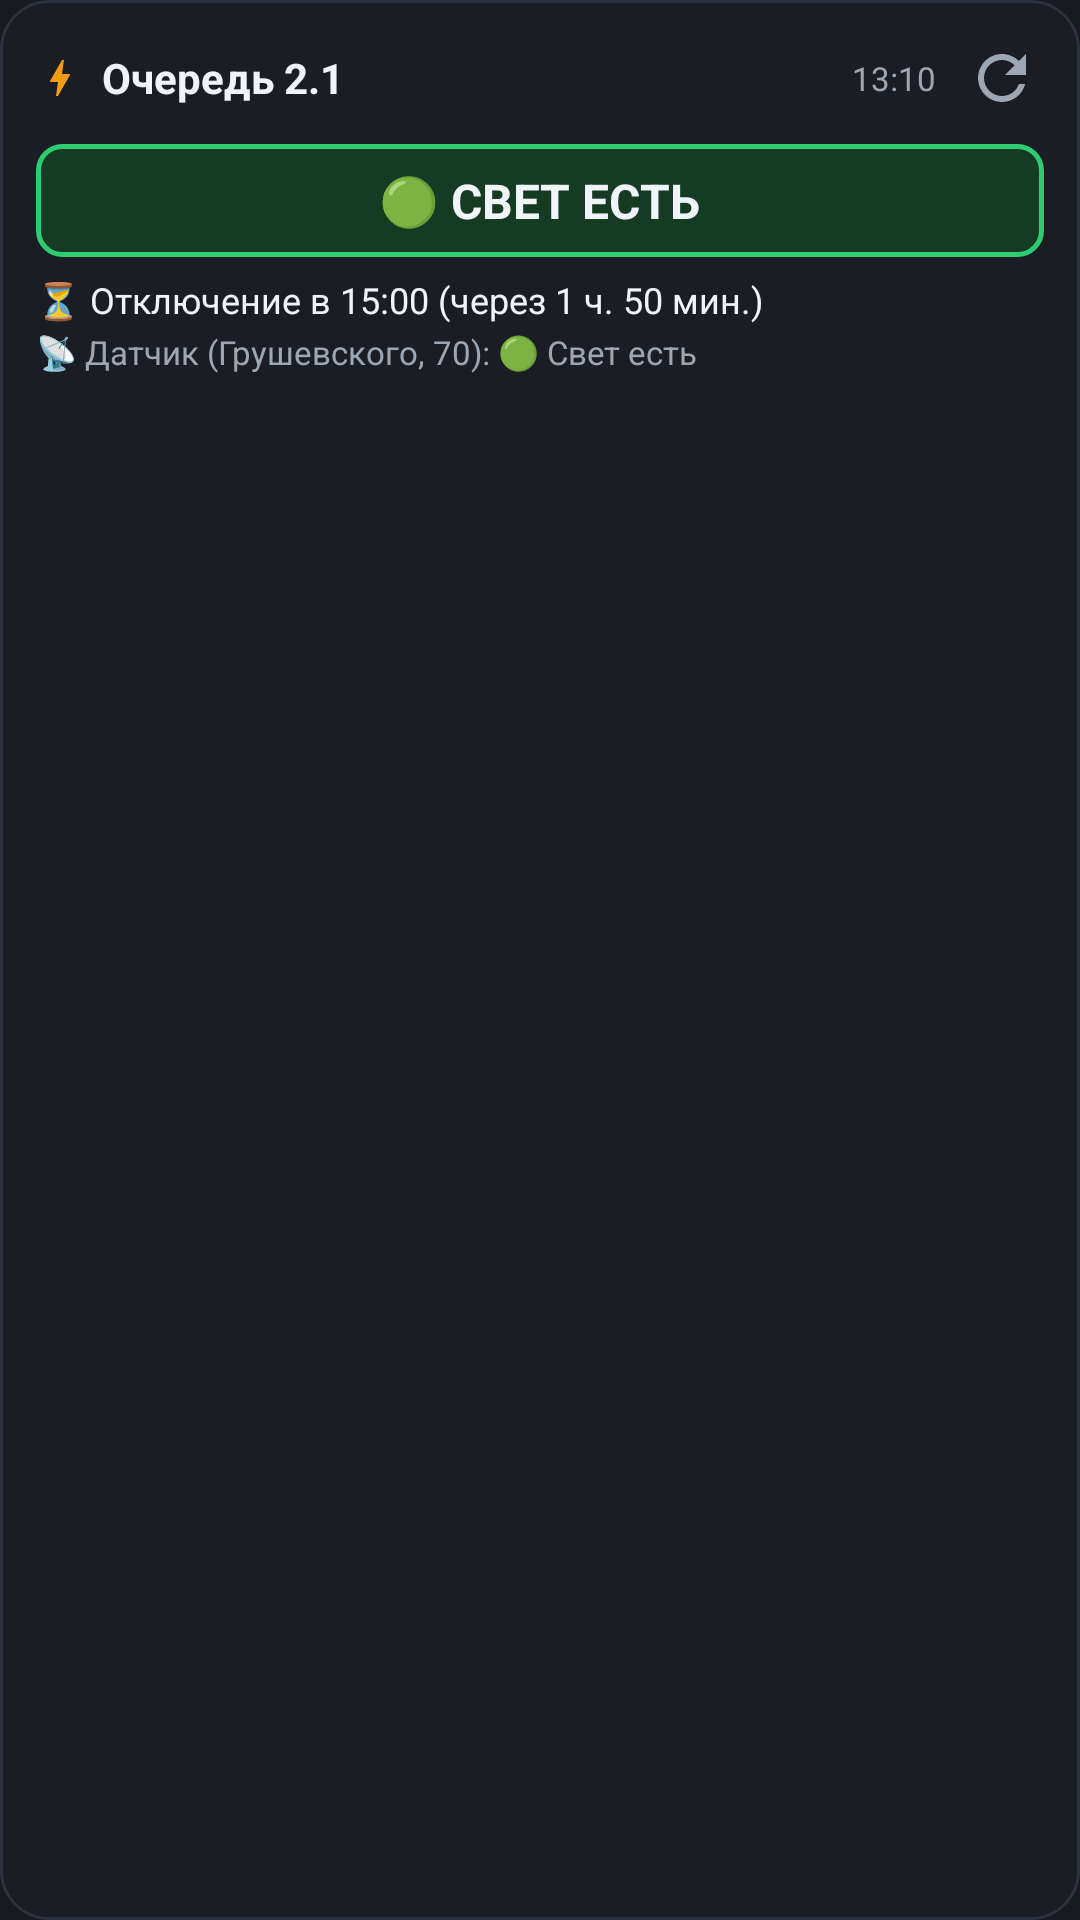

Icon click points for this 1080px×1920px phone screenshot, format (x=x, y=y):
bolt: (x=60, y=78)
Обновить: (x=1002, y=78)
